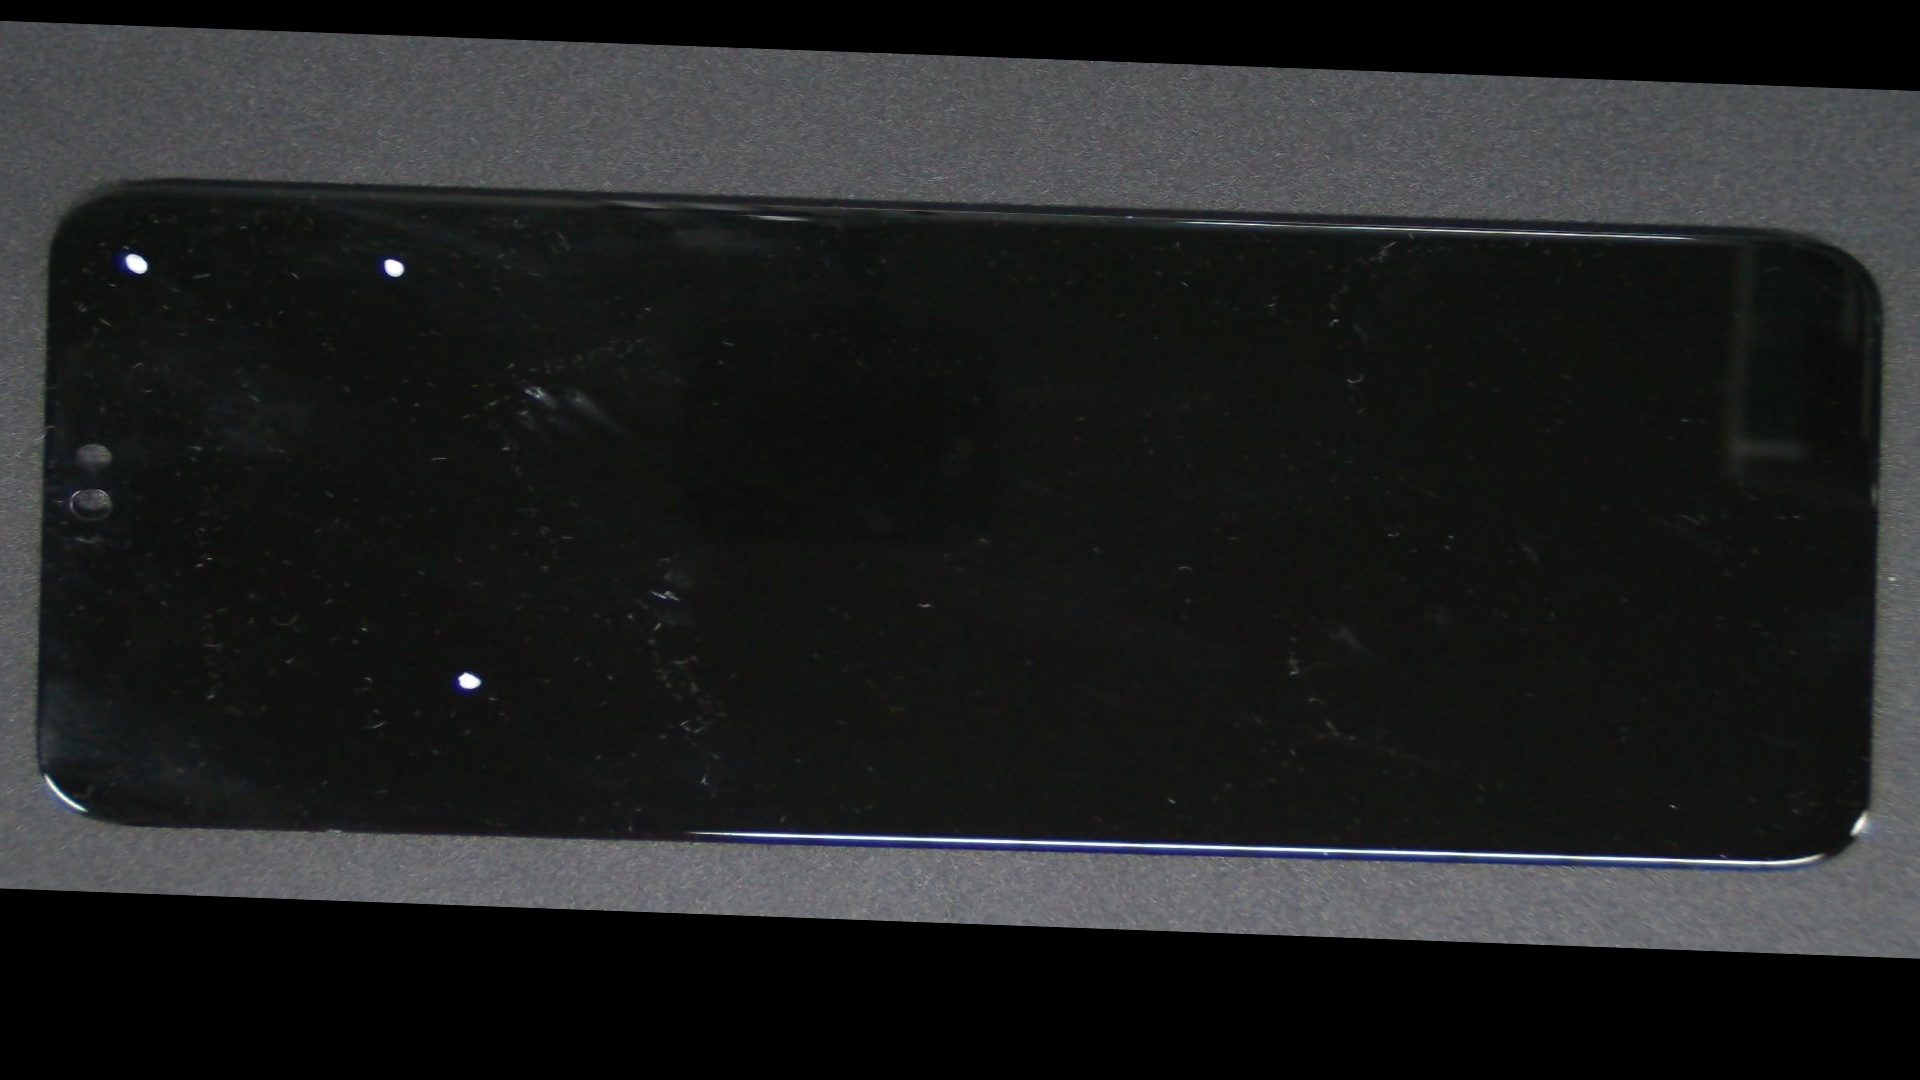oil: (175, 344, 758, 915), (220, 202, 858, 570), (148, 138, 624, 378), (20, 135, 240, 369)
